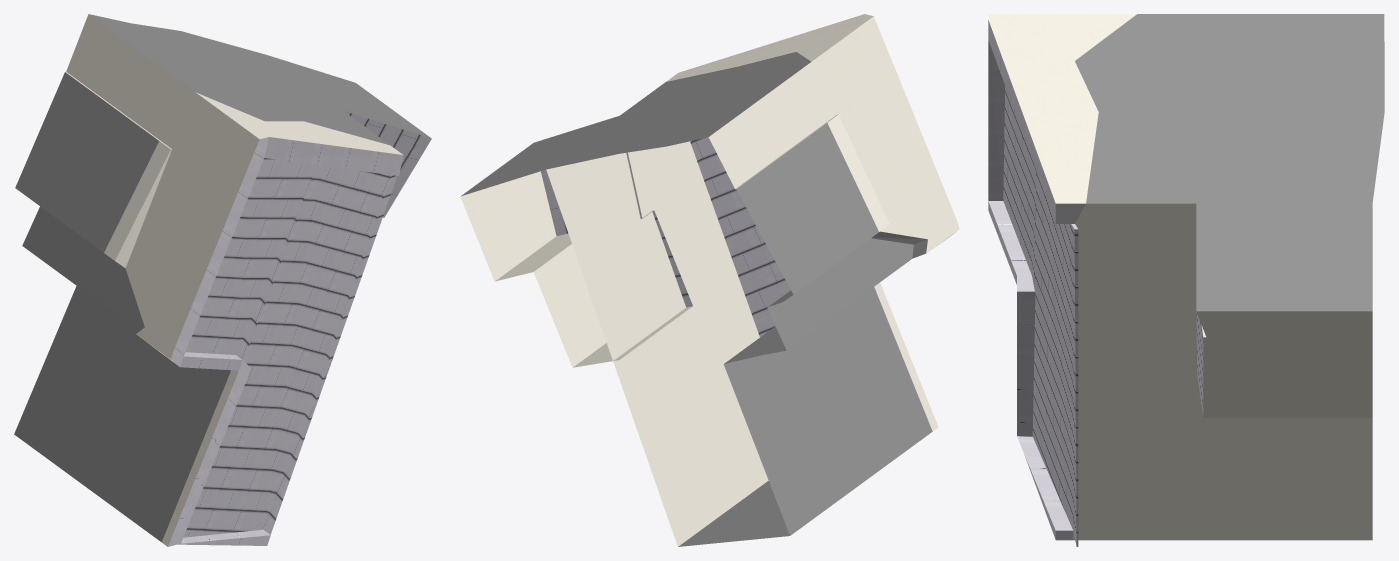
File: Pikk_53-origo.obj
3 views of the same model, side by side, from view 1: azimuth 30°, elevation 25°; view 2: azimuth 150°, elevation 25°; view 3: azimuth 270°, elevation 25° (orthographic). The views are drawn at different scales.
Visible parts, largest first — view 1: Pikk_53, xxx; view 2: Pikk_53, xxx; view 3: Pikk_53, xxx.
Boxes of the visible parts, x1=… form: Pikk_53: x1=65, y1=14, x2=431, y2=546; xxx: x1=14, y1=14, x2=430, y2=541; Pikk_53: x1=460, y1=14, x2=959, y2=546; xxx: x1=461, y1=52, x2=932, y2=546; Pikk_53: x1=988, y1=14, x2=1372, y2=546; xxx: x1=1075, y1=14, x2=1384, y2=311.
Bounding box in the file's own units: 18.5 × 22 × 15.63.
